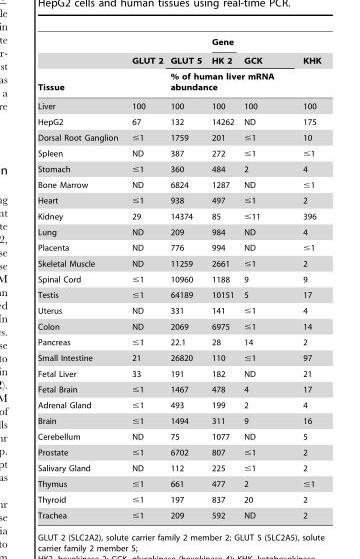table: (37, 37, 320, 519)
table column: (37, 37, 124, 519), (238, 37, 287, 519), (124, 37, 166, 519), (166, 37, 206, 519), (287, 37, 320, 519), (206, 37, 238, 519)
table column header: (37, 37, 320, 96)
table row: (37, 68, 320, 96), (37, 51, 320, 68), (37, 96, 320, 113), (37, 113, 320, 129), (37, 129, 320, 145), (37, 160, 320, 176), (37, 176, 320, 192), (37, 192, 320, 208), (37, 208, 320, 224), (37, 239, 320, 255), (37, 255, 320, 271), (37, 286, 320, 302), (37, 302, 320, 318), (37, 318, 320, 334), (37, 349, 320, 365), (37, 365, 320, 381), (37, 381, 320, 397), (37, 412, 320, 428), (37, 428, 320, 444), (37, 444, 320, 460), (37, 475, 320, 491), (37, 491, 320, 507), (37, 145, 320, 160), (37, 224, 320, 239), (37, 271, 320, 286), (37, 334, 320, 349), (37, 397, 320, 412), (37, 460, 320, 475), (37, 37, 320, 51), (37, 507, 320, 519)
table spanning cell: (37, 37, 124, 96), (166, 68, 287, 96), (124, 37, 166, 96), (287, 37, 320, 96), (238, 37, 287, 68), (166, 37, 206, 68), (206, 37, 238, 68)
